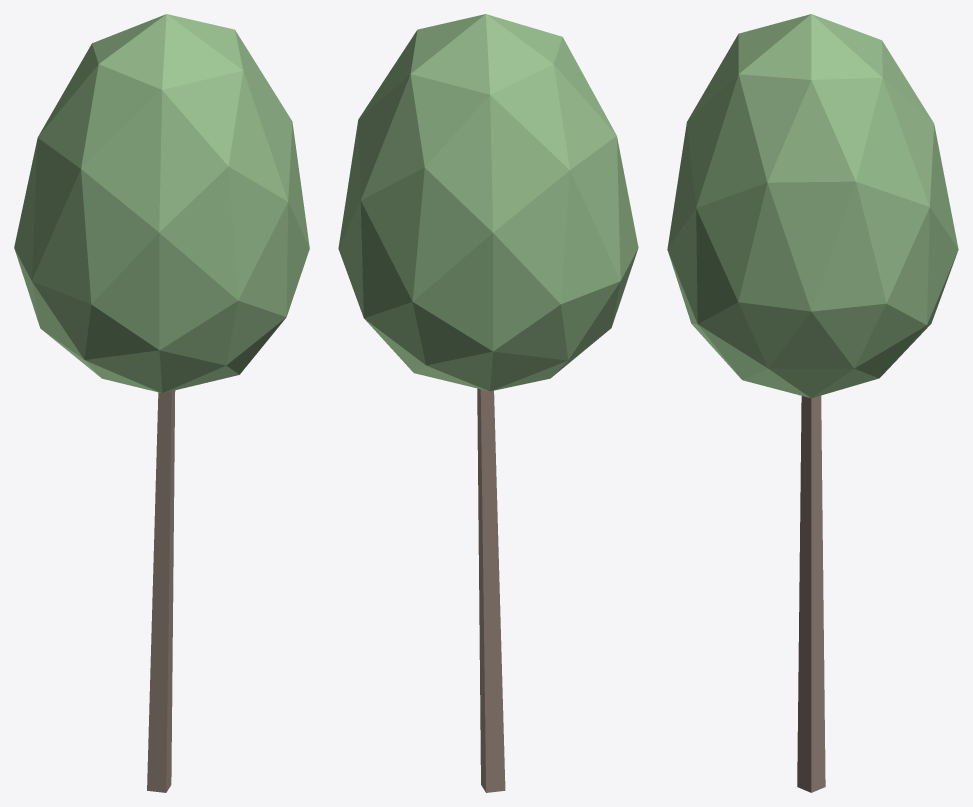
File: tree-pine-b-far.glb
3 views of the same model, side by side, from view 1: azimuth 30°, elevation 25°; view 2: azimuth 150°, elevation 25°; view 3: azimuth 270°, elevation 25° (orthographic).
Visible parts, largest first — view 1: tree-pine-b-far; view 2: tree-pine-b-far; view 3: tree-pine-b-far.
Boxes of the visible parts, x1,y1,x2,y2 form: tree-pine-b-far: (14,14,309,792); tree-pine-b-far: (338,14,638,792); tree-pine-b-far: (667,14,958,792).
Size of the model in its own units: 0.3494 by 0.9875 by 0.3356.
